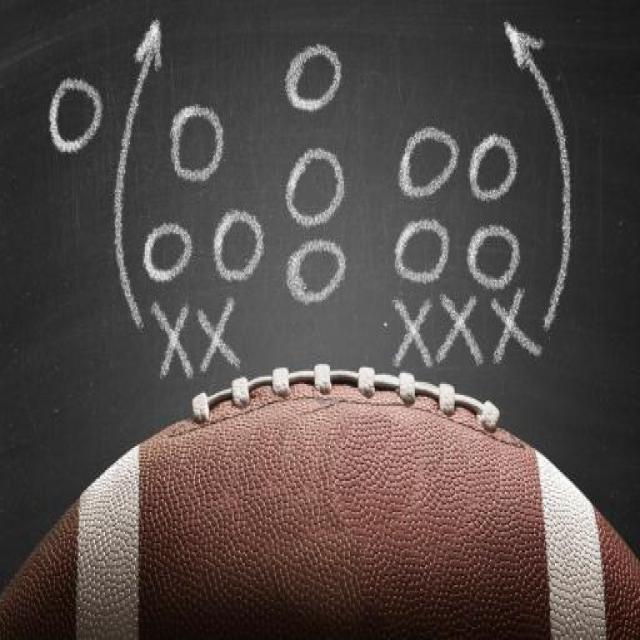ball: (4, 359, 636, 637)
